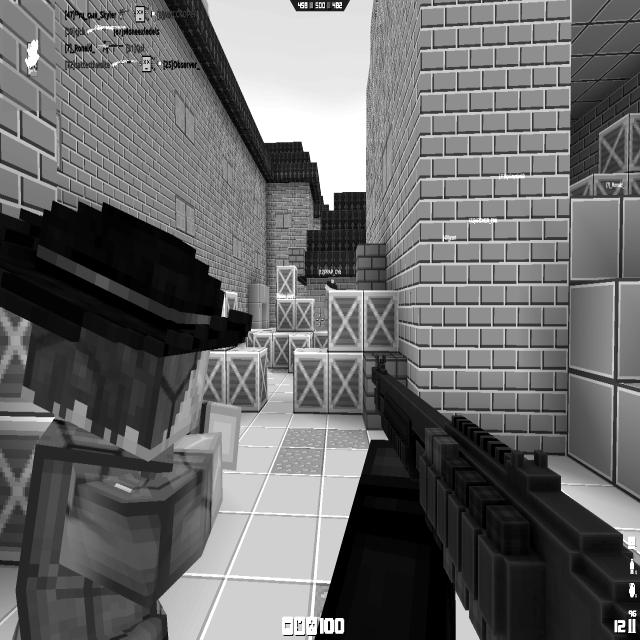Head: (0, 207, 252, 448), (326, 280, 338, 300)
Player: (0, 205, 253, 640), (322, 279, 338, 333)
